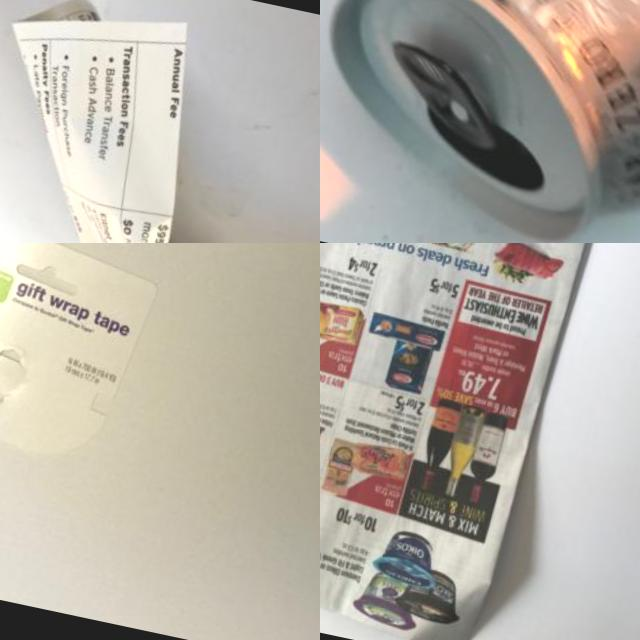aba de lata: (368, 30, 522, 156)
lata: (320, 0, 640, 243)
papel: (320, 243, 600, 640), (0, 0, 320, 243), (0, 243, 166, 472)
